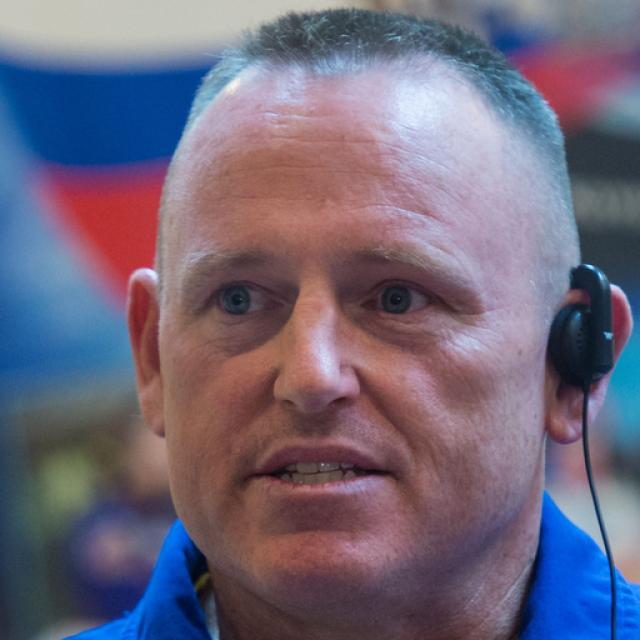Wrinkle: (214, 152, 475, 210), (258, 129, 459, 169), (353, 195, 445, 230), (207, 185, 303, 207)
